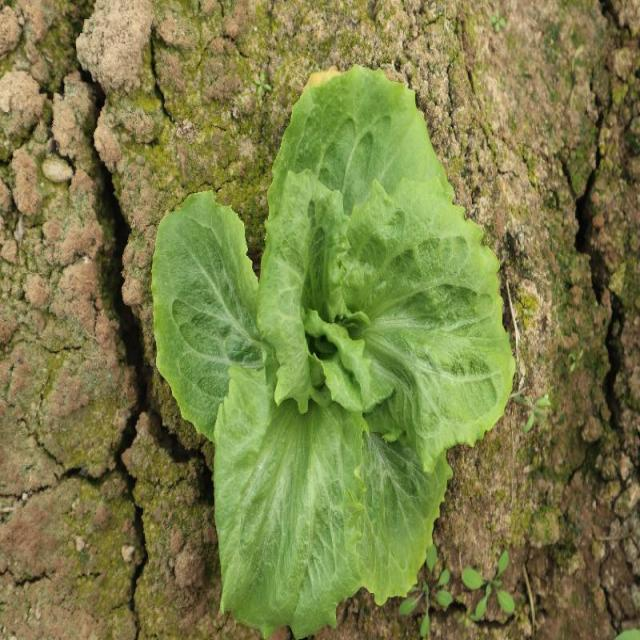crop: (152, 63, 516, 639)
